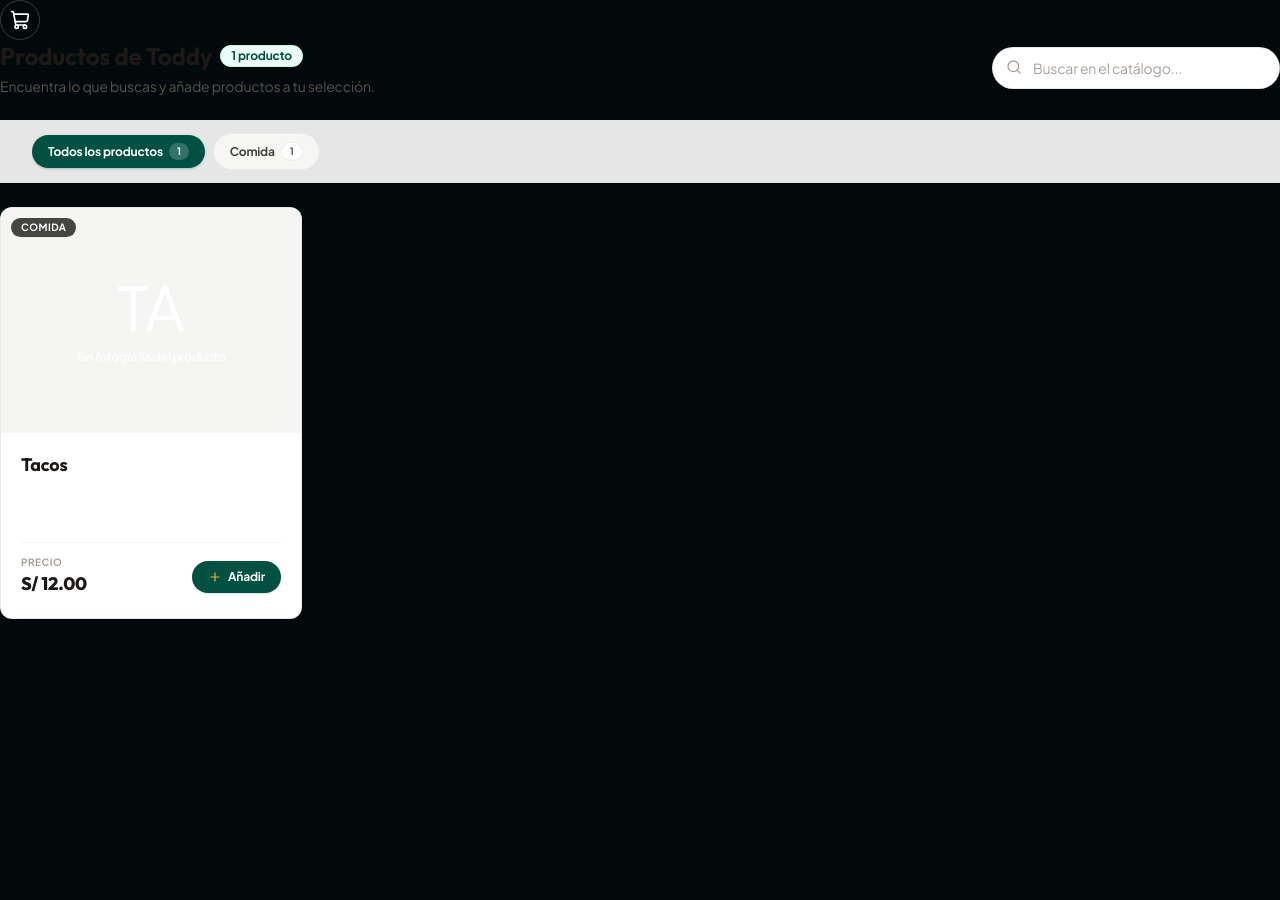
Test: Backend storefront cart › requires customer authentication without fabricating a saved item and displays login/register links
What coordinates should you click on to do the following:
click the button "Añadir"
I would click on:
 (236, 577)
Its box is [192,561,281,593].
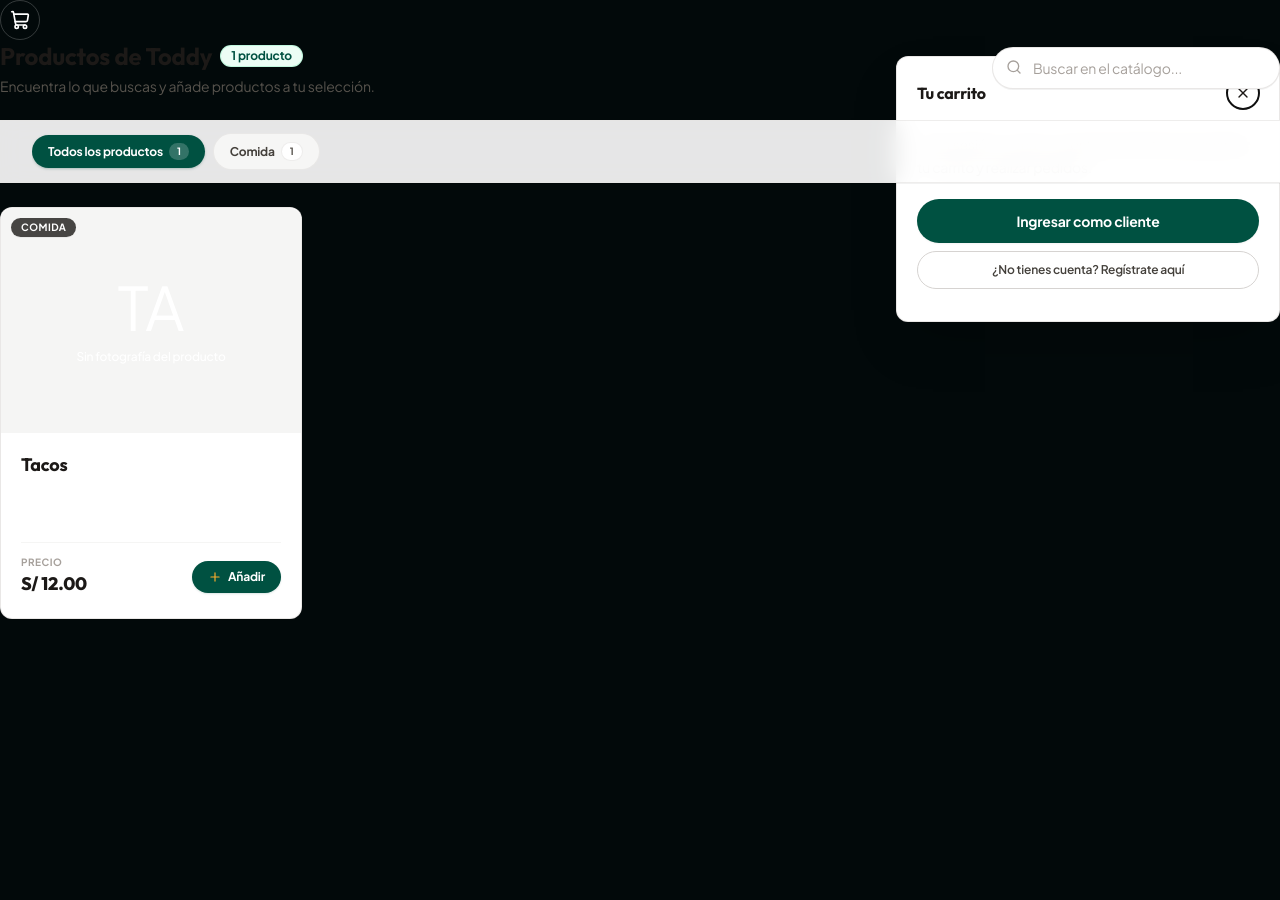
Expected: the button named "Carrito, 0 productos" is shown, [0,0,40,40]
Expected: the link "Ingresar como cliente" is shown, [917,198,1259,242]
Expected: the link "¿No tienes cuenta? Regístrate aquí" is shown, [917,250,1259,288]
